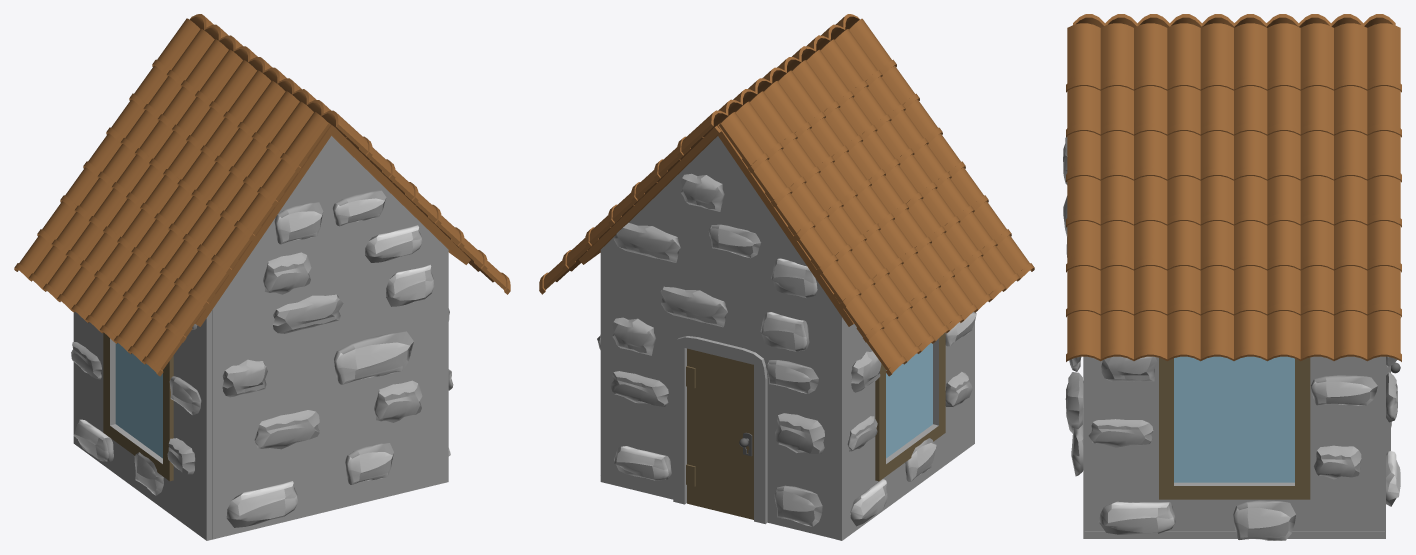
Rendered from House.fbx.
The picture shows the model from 3 angles, left to right: view 1: azimuth 30°, elevation 25°; view 2: azimuth 150°, elevation 25°; view 3: azimuth 270°, elevation 25°; orthographic projection. The views are drawn at different scales.
Parts seen in each view (by area): view 1: House; view 2: House; view 3: House.
Boxes of the visible parts, x1,y1,x2,y2 form: House: (14,14,510,540); House: (539,14,1034,540); House: (1063,14,1401,540).
Bounding box in the file's own units: 470 × 497 × 336.
